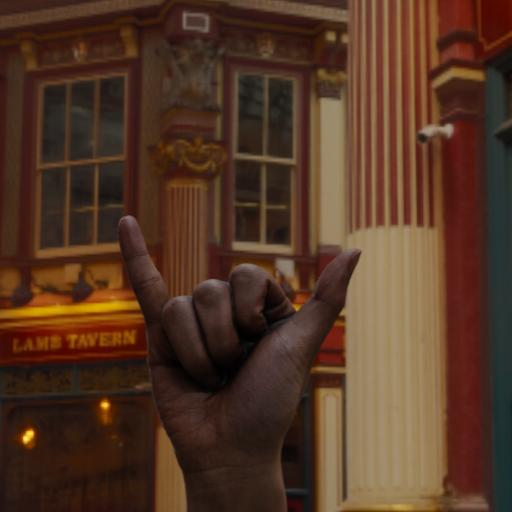Y: (114, 212, 364, 460)
